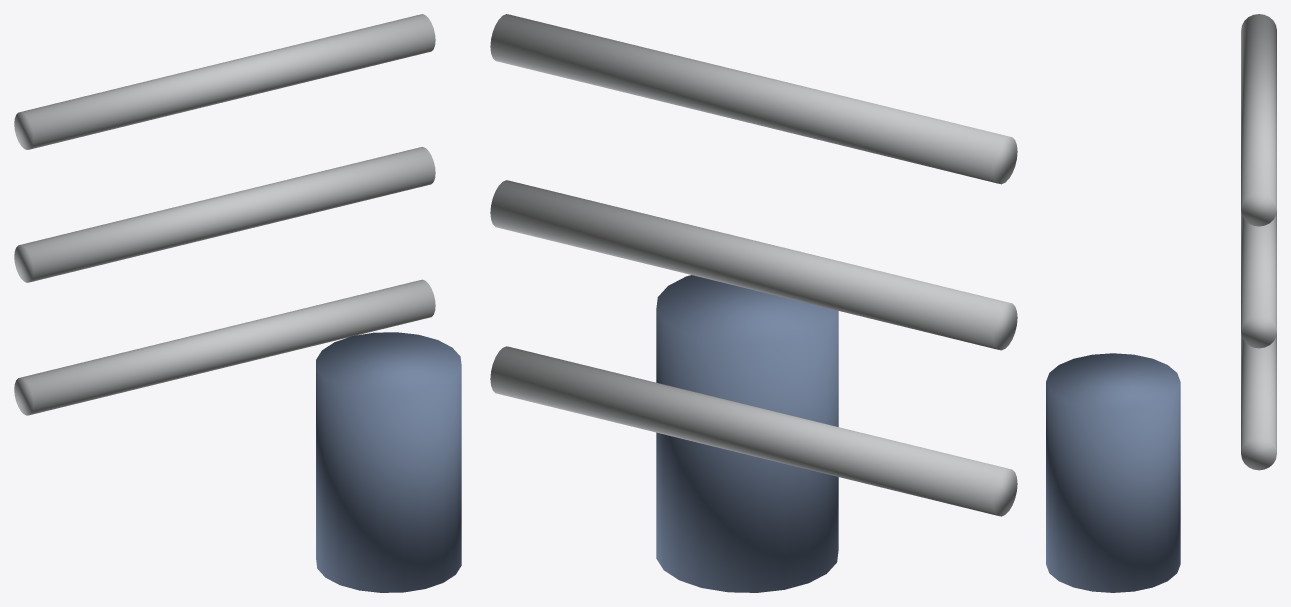
The model's file is pipes.glb.
3 renders of one model, left to right at view 1: azimuth 30°, elevation 25°; view 2: azimuth 150°, elevation 25°; view 3: azimuth 270°, elevation 25°, orthographic. The views are drawn at different scales.
Visible parts, largest first — view 1: metal, cyl.003; view 2: metal, cyl.003; view 3: cyl.003, metal.
Part boxes in pixels (x1,y1,x2,y2): metal: (14,14,435,415); cyl.003: (316,332,461,592); metal: (490,14,1017,516); cyl.003: (656,275,838,592); cyl.003: (1046,353,1180,592); metal: (1241,14,1276,470).
Bounding box in the file's own units: 1.9 × 2.08 × 1.03.
